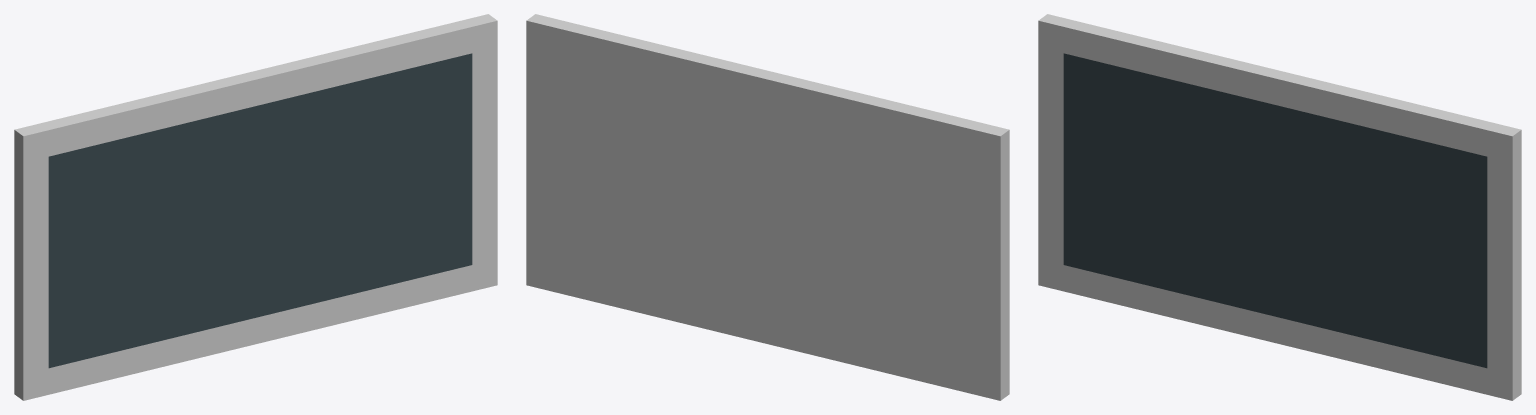
The model's file is furniture_mirror.fbx.
The picture shows the model from 3 angles, left to right: view 1: azimuth 30°, elevation 25°; view 2: azimuth 150°, elevation 25°; view 3: azimuth 330°, elevation 25°; orthographic projection.
Visible parts, largest first — view 1: furniture_mirror; view 2: furniture_mirror; view 3: furniture_mirror.
Boxes of the visible parts, x1=… form: furniture_mirror: x1=14, y1=14, x2=497, y2=400; furniture_mirror: x1=526, y1=14, x2=1009, y2=400; furniture_mirror: x1=1038, y1=14, x2=1521, y2=400.
Bounding box in the file's own units: 200 × 107 × 6.67.
